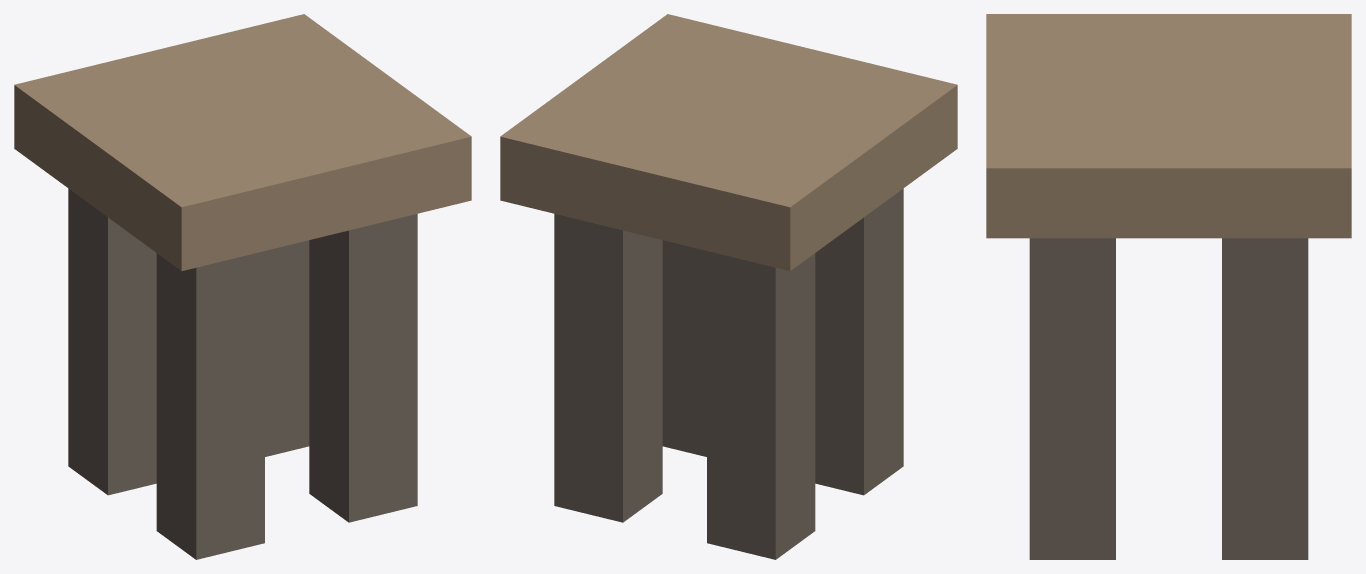
The model's file is tea_stool.glb.
3 renders of one model, left to right at view 1: azimuth 30°, elevation 25°; view 2: azimuth 150°, elevation 25°; view 3: azimuth 270°, elevation 25°, orthographic. The views are drawn at different scales.
Visible parts, largest first — view 1: body; view 2: body; view 3: body.
Boxes of the visible parts, x1=… form: body: x1=14, y1=14, x2=471, y2=559; body: x1=500, y1=14, x2=957, y2=559; body: x1=986, y1=14, x2=1351, y2=559.
Bounding box in the file's own units: 0.38 × 0.47 × 0.38.
